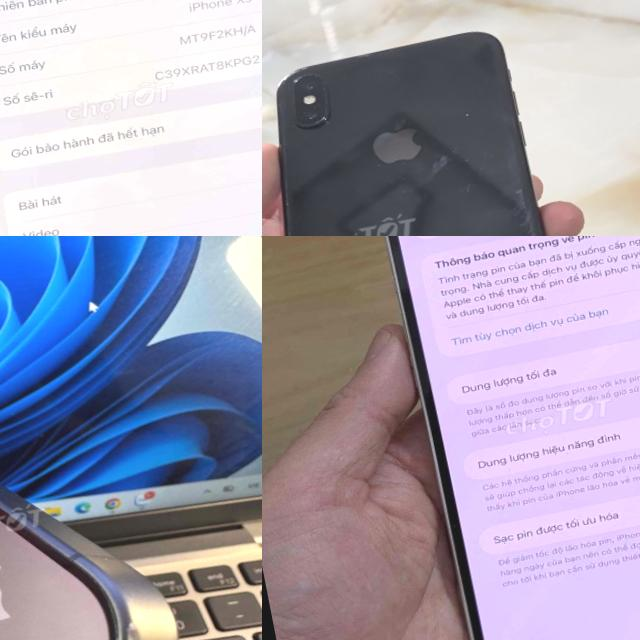gen_14: (357, 236, 640, 640)
gen_x_xs: (0, 0, 262, 236), (277, 32, 544, 236)
physical_damage: (93, 601, 159, 640)
scratch: (428, 131, 557, 236), (262, 191, 320, 236), (434, 96, 484, 132), (306, 62, 341, 96), (312, 104, 345, 136), (372, 57, 403, 79)
